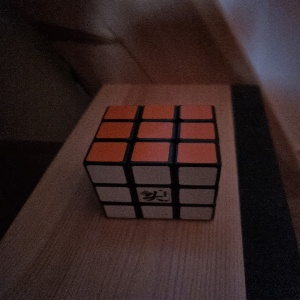cube: (82, 105, 223, 222)
